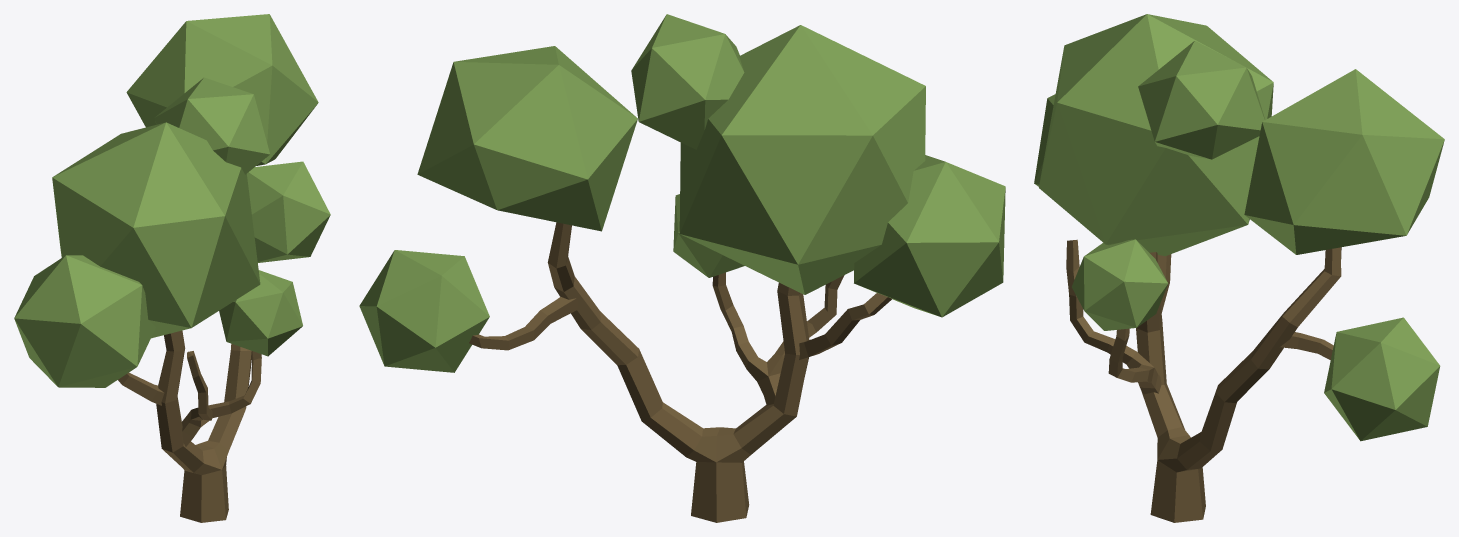
The model's file is Tree.fbx.
3 views of the same model, side by side, from view 1: azimuth 30°, elevation 25°; view 2: azimuth 150°, elevation 25°; view 3: azimuth 270°, elevation 25° (orthographic). The views are drawn at different scales.
Parts seen in each view (by area): view 1: Lowpoly_tree_sample:Default; view 2: Lowpoly_tree_sample:Default; view 3: Lowpoly_tree_sample:Default.
Part boxes in pixels (box(x1,y1,x2,y2)): Lowpoly_tree_sample:Default: box(14, 14, 330, 522); Lowpoly_tree_sample:Default: box(359, 14, 1005, 522); Lowpoly_tree_sample:Default: box(1034, 14, 1444, 522).
Bounding box in the file's own units: 6.12 × 5.81 × 4.55.
